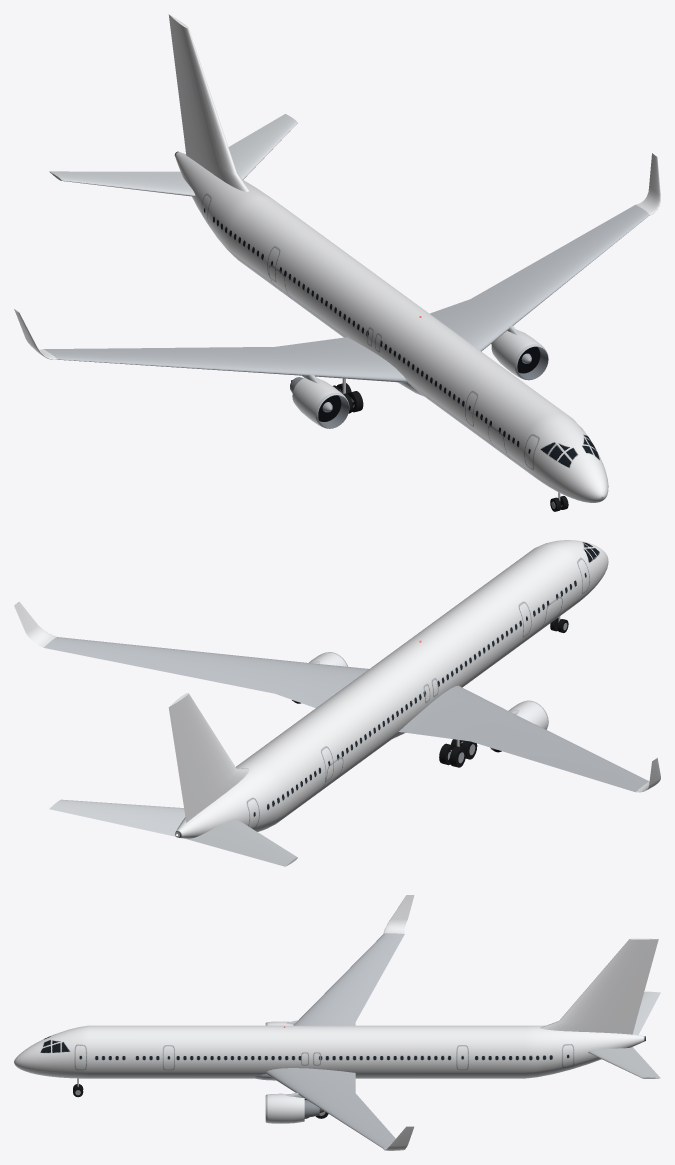
3 views of the same model, one above another, from view 1: azimuth 30°, elevation 25°; view 2: azimuth 150°, elevation 25°; view 3: azimuth 270°, elevation 25° (orthographic). The views are drawn at different scales.
Visible parts, largest first — view 1: body, gear; view 2: body, gear; view 3: body.
Part boxes in pixels (box(x1,y1,x2,y2)): body: box(14, 14, 660, 502); gear: box(333, 378, 568, 511); body: box(14, 540, 660, 866); gear: box(439, 616, 568, 767); body: box(14, 895, 660, 1150).
Size of the model in its own units: 41.06 by 12.9 by 48.46.
19 materials, 1 textured.
